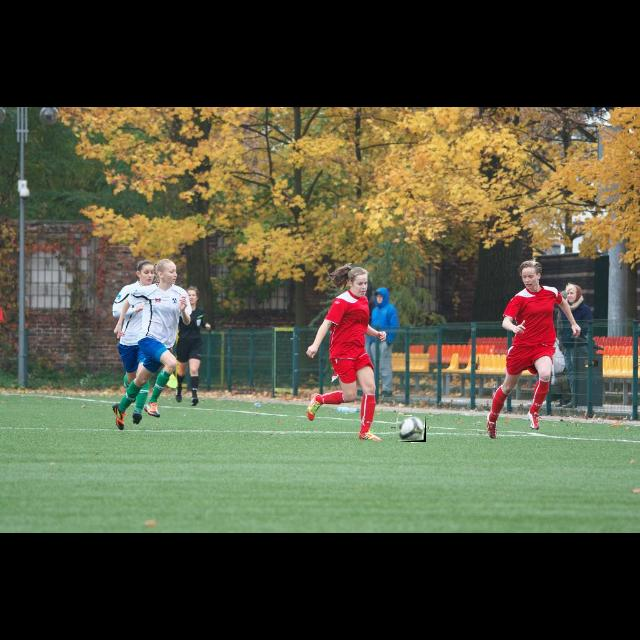Football: (396, 416, 426, 442)
